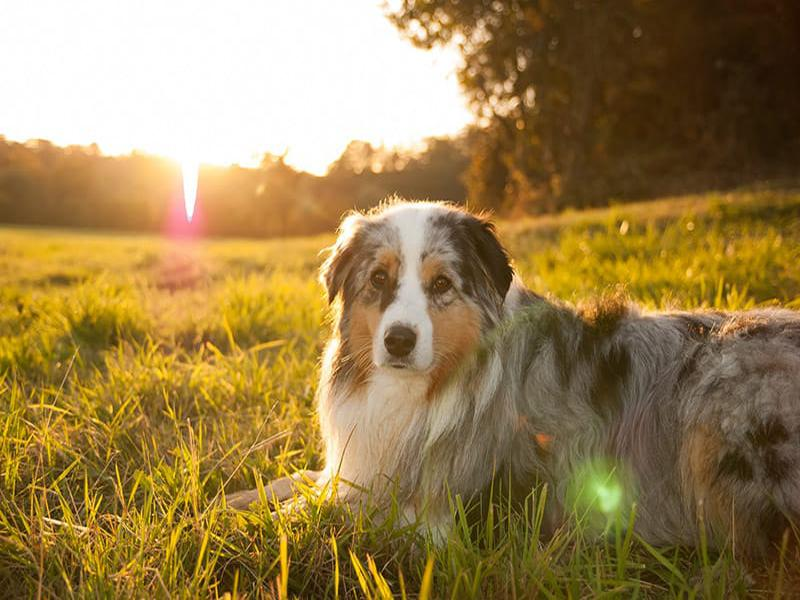dog_down: (204, 194, 800, 545)
